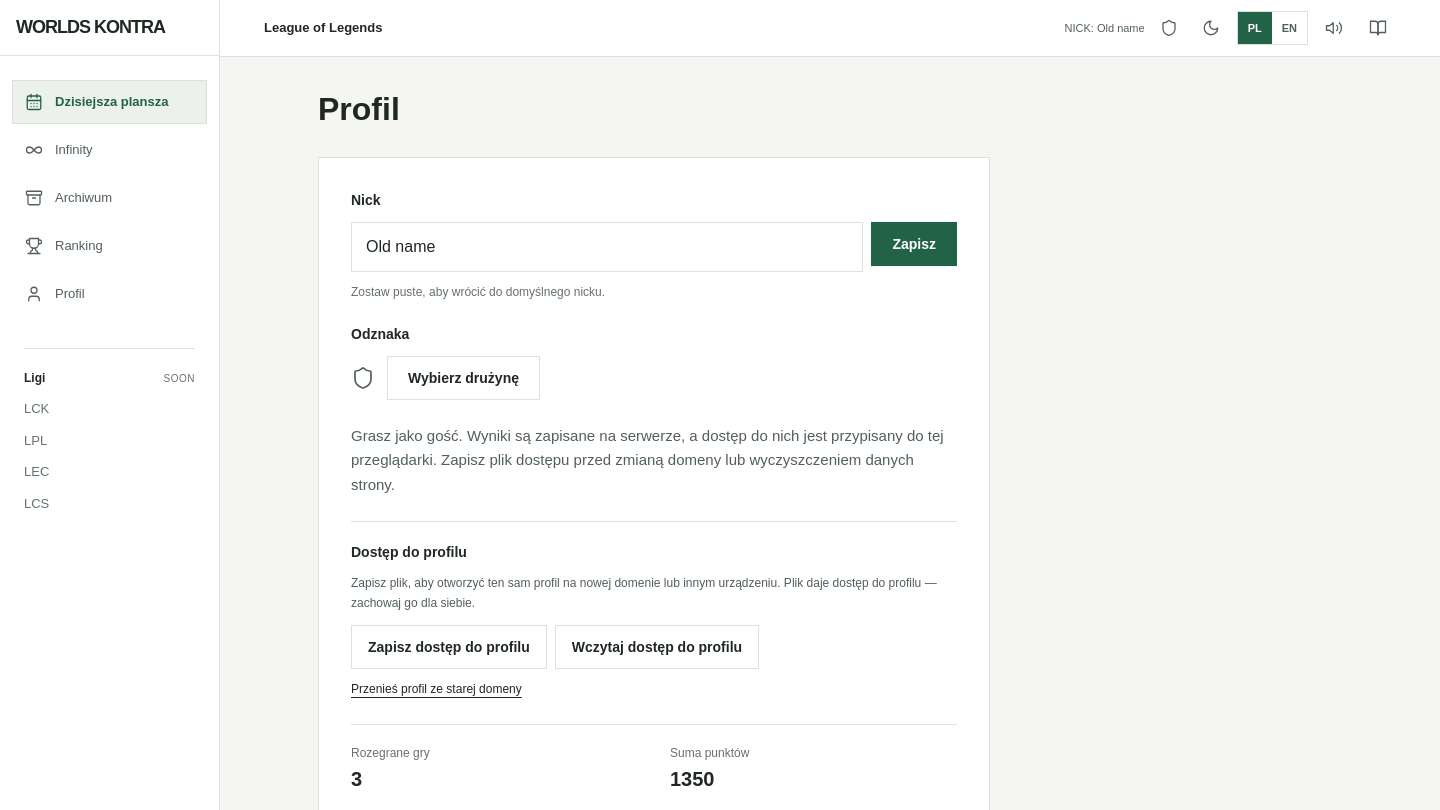
Test case: guest nickname and statistics › shows the backend nickname validation message without resetting identity or game progress
Step 1. Replace the text in the field labelled "Nick" with "A rejected nickname" → [607, 247], box [351,222,863,272]
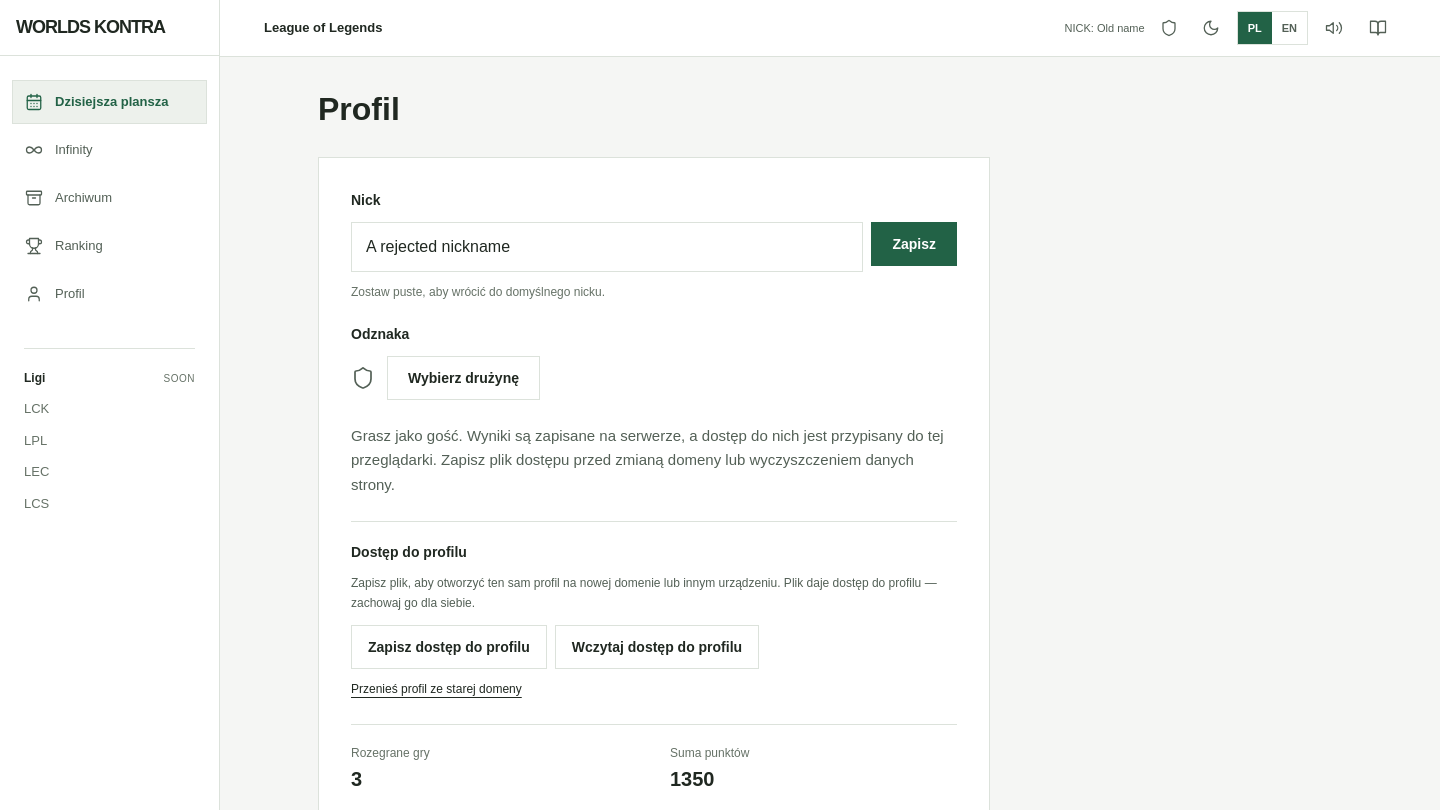
Step 2. Click the button "Zapisz" → [914, 244], box [871,222,957,266]
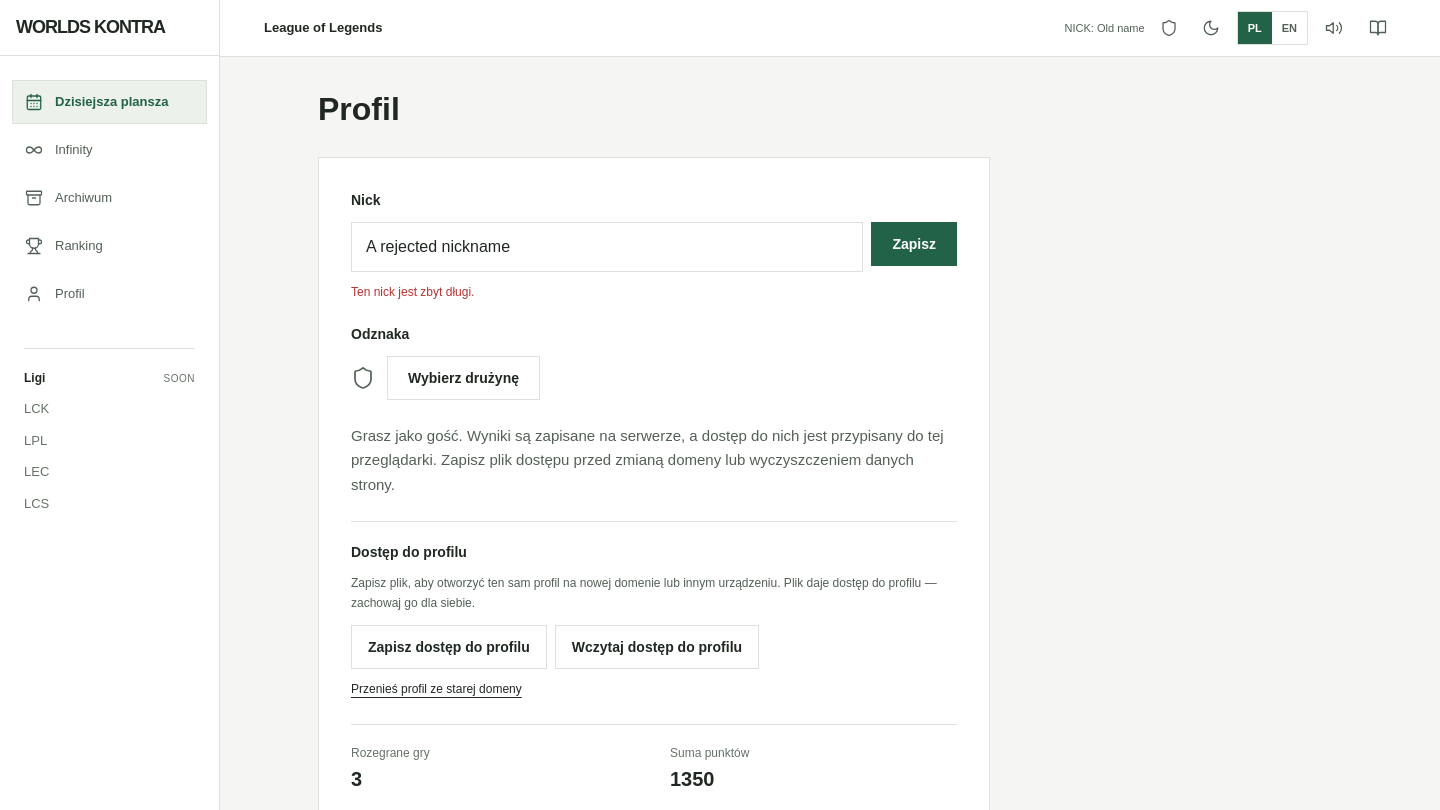
Expected: the message reads "Ten nick jest zbyt długi.", [351,285,474,299]
